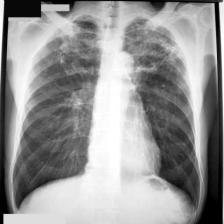tuberculosis: (9, 16, 202, 215)
